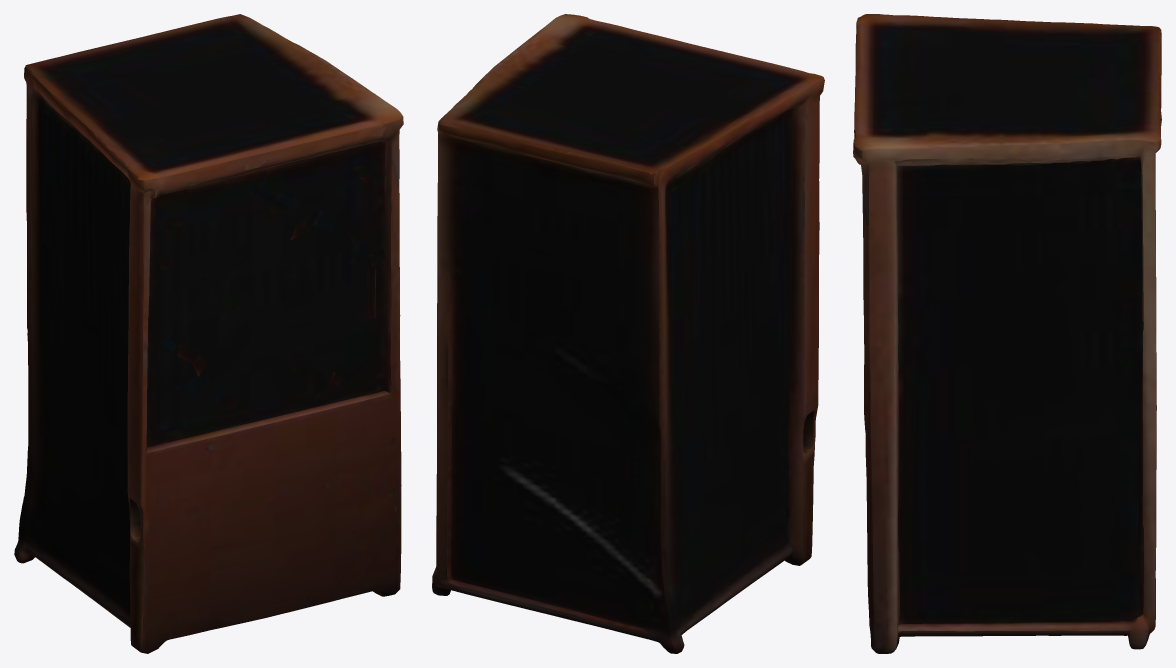
3 renders of one model, left to right at view 1: azimuth 30°, elevation 25°; view 2: azimuth 150°, elevation 25°; view 3: azimuth 270°, elevation 25°, orthographic. The views are drawn at different scales.
Parts seen in each view (by area): view 1: world; view 2: world; view 3: world.
Part boxes in pixels (box(x1,y1,x2,y2)): world: box(14, 14, 403, 653); world: box(432, 14, 824, 653); world: box(853, 14, 1161, 653).
Size of the model in its own units: 0.2424 by 0.4179 by 0.2301.
Materials: 1 (1 with a texture image).
